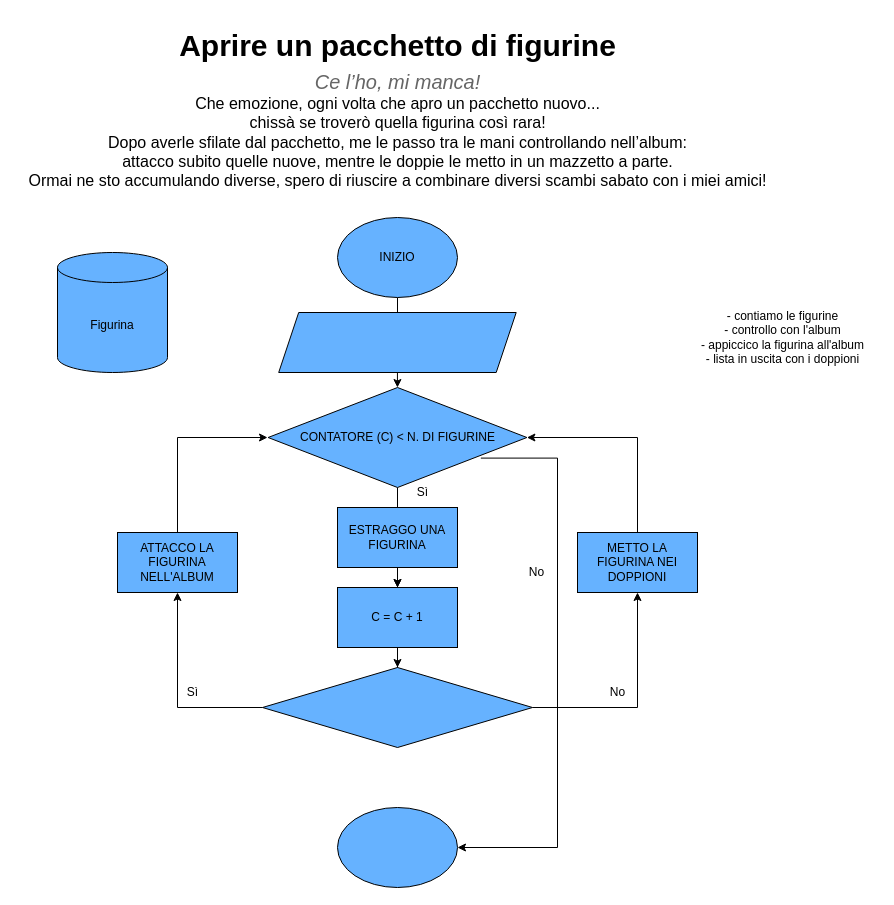
Image size: 894x905. Some labels were removed from this diagram. The centre of each missing label's shape, as x and y in pixels:
ALBUM, DOPPIONI, NUMERO DI FIGURINE(10), CONTATORE (C = 0): (397,342)
FINE: (397,847)
NON C'È NELL'ALBUM: (397,707)
